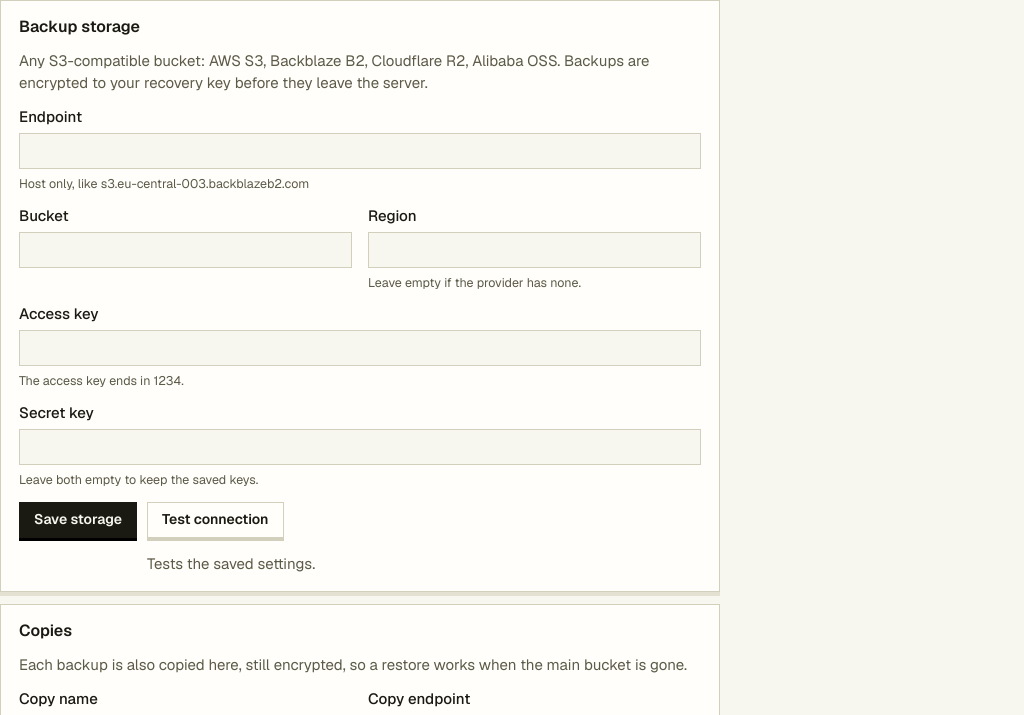
Scenario: Storage test connection › shows the far end's error
Click the button "Test connection" at (215, 520), box [147,502,284,538]
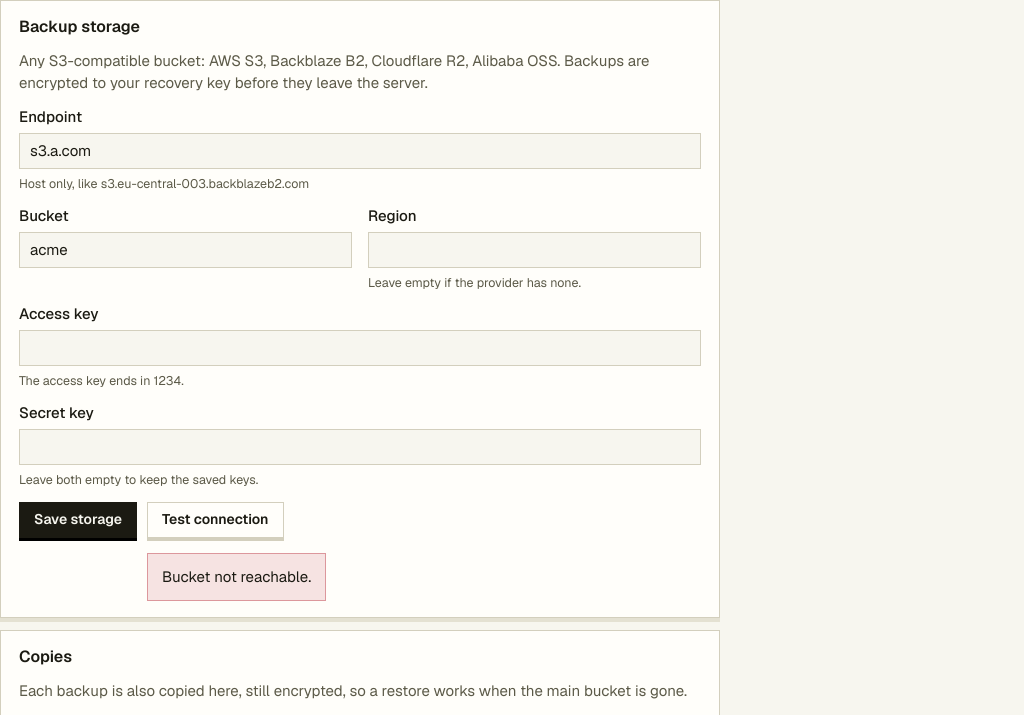
Expected: the text "Bucket not reachable." is shown, [162,566,311,588]
